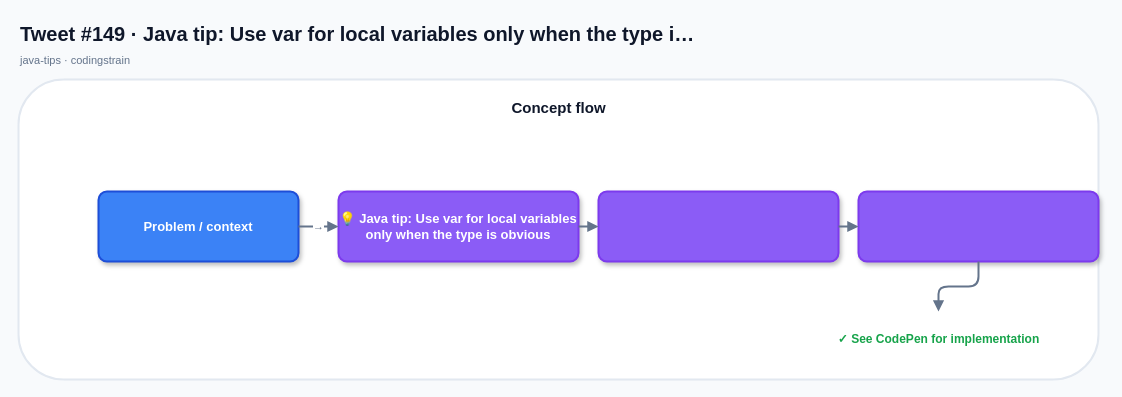
The diagram is 1122 pixels wide and 397 high, and some of its shapes have lost their labels. The centre of each missing label's shape, as x and y in pixels:
#Java #JavaTips: (719,227)
Runnable sample: `java-tips`: (979,227)
